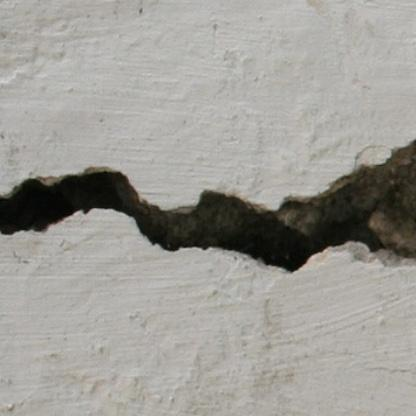Cracks: (0, 129, 416, 278)
